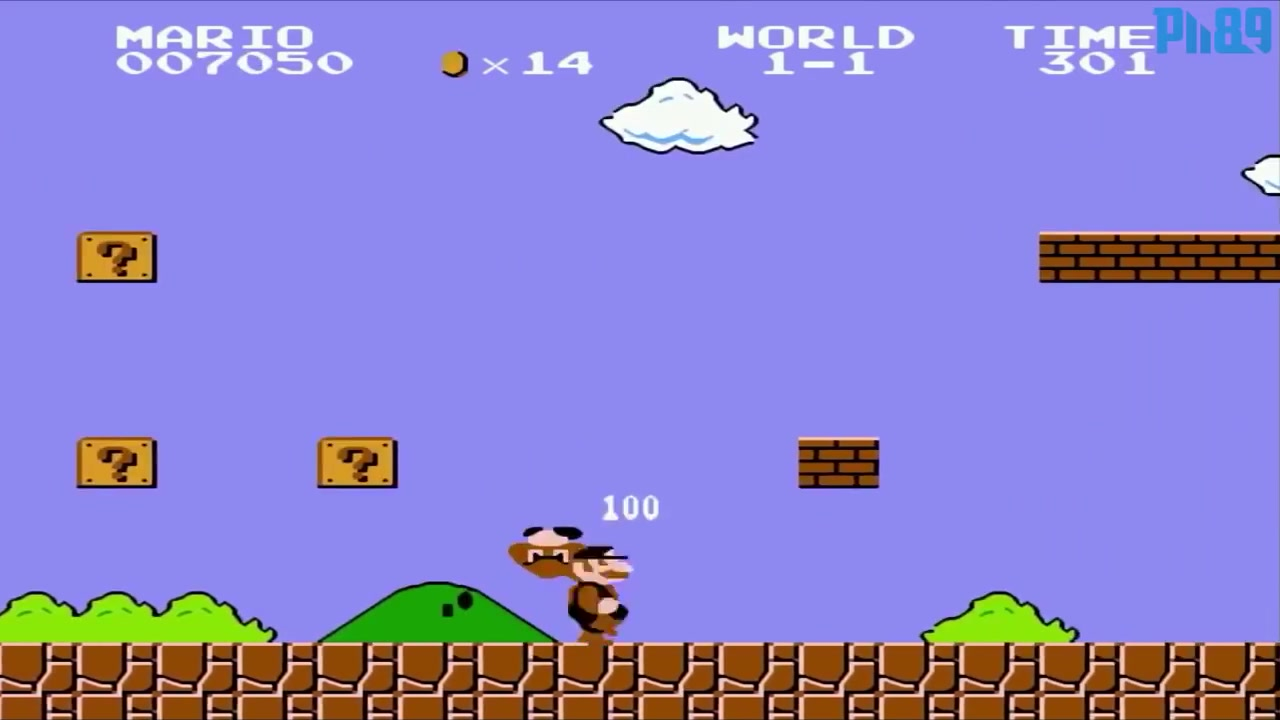mario: (559, 533, 637, 645)
